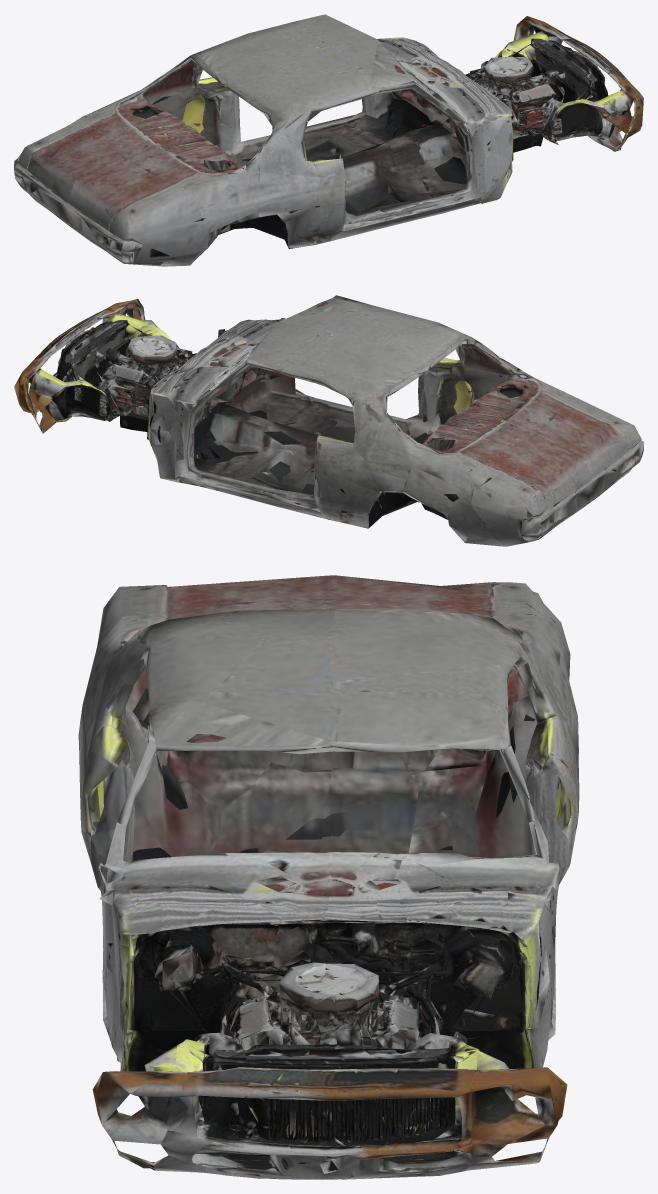
File: barebones.glb
The picture shows the model from 3 angles, top to bottom: view 1: azimuth 30°, elevation 25°; view 2: azimuth 150°, elevation 25°; view 3: azimuth 270°, elevation 25°; orthographic projection. The views are drawn at different scales.
Parts seen in each view (by area): view 1: barebones; view 2: barebones; view 3: barebones.
Boxes of the visible parts, left/top/right/bottom form: barebones: left=14, top=14, right=643, bottom=266; barebones: left=14, top=295, right=643, bottom=546; barebones: left=78, top=575, right=579, bottom=1179.
Bounding box in the file's own units: 4.8 × 1.22 × 1.95.
Materials: 1 (1 with a texture image).
